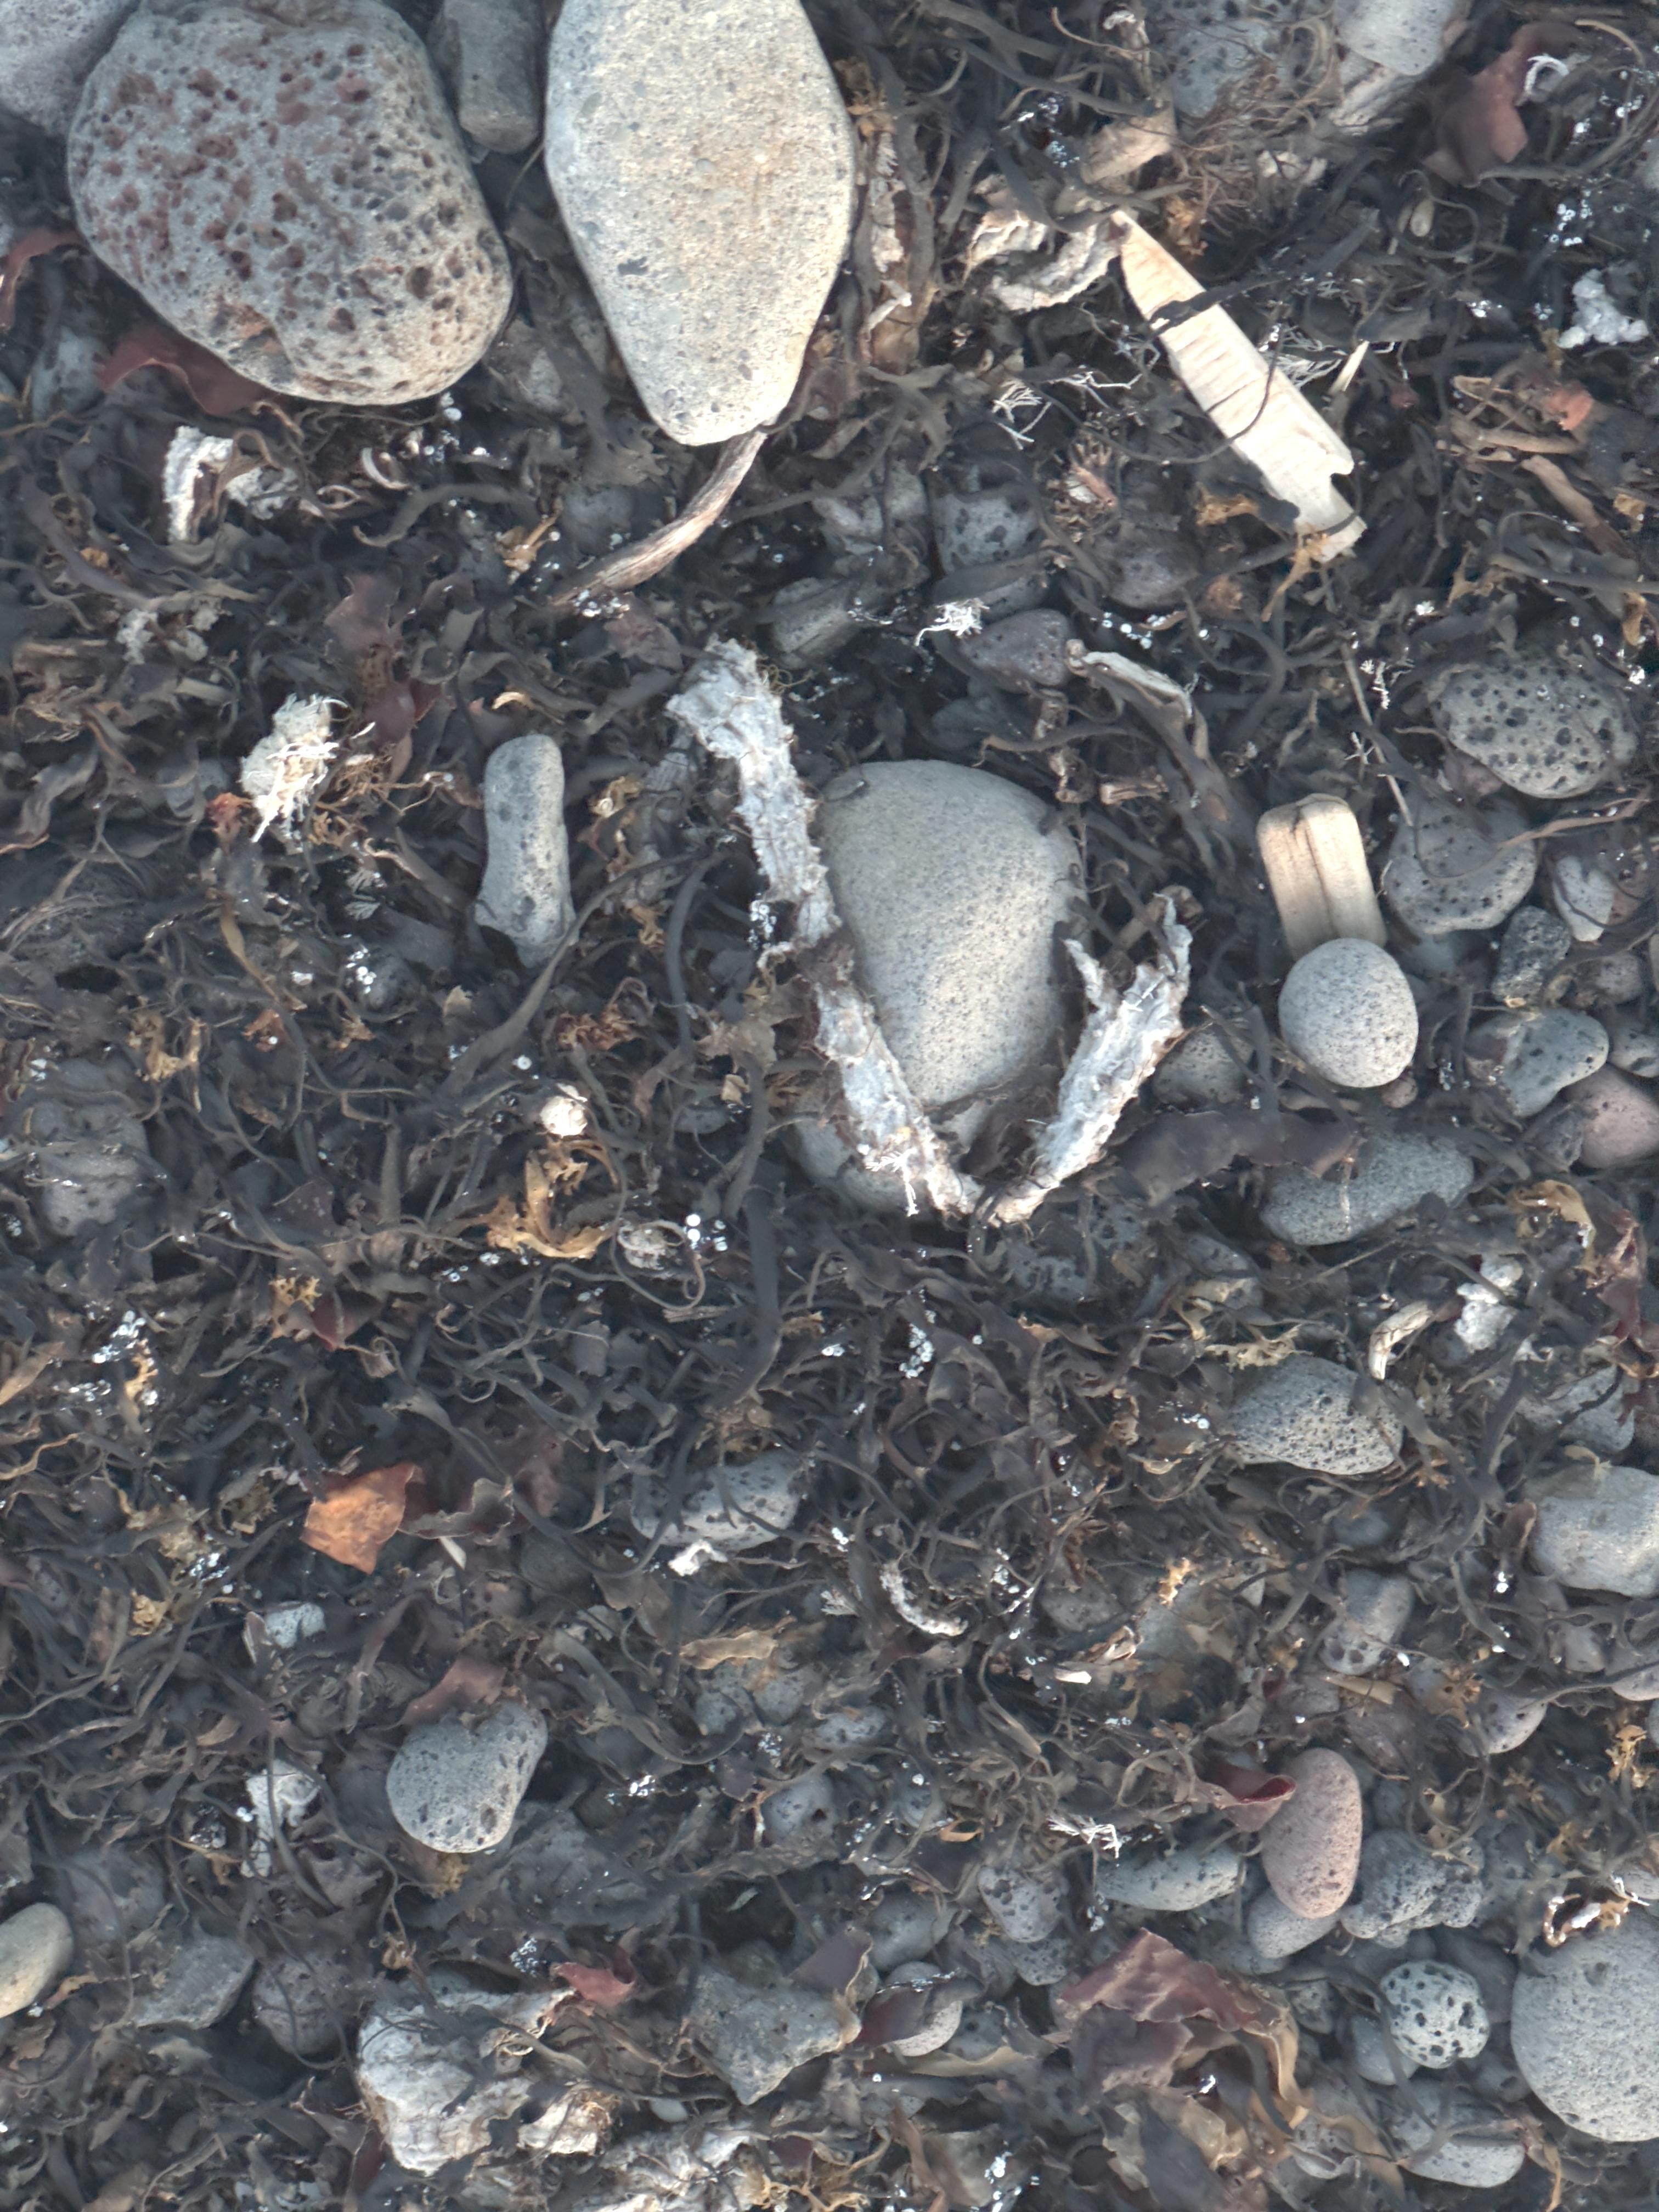trash: (669, 639, 981, 1214), (985, 899, 1192, 1223)
